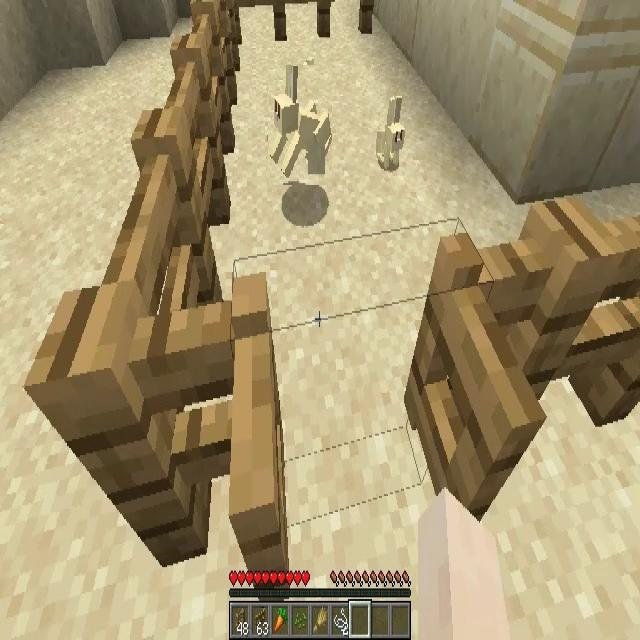rabbit: (268, 65, 332, 185), (376, 95, 406, 174)
